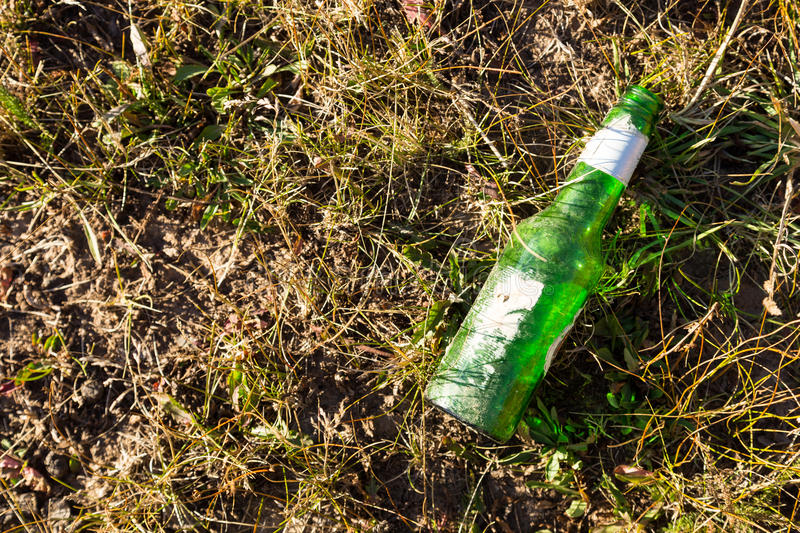bottle: (424, 78, 672, 455)
